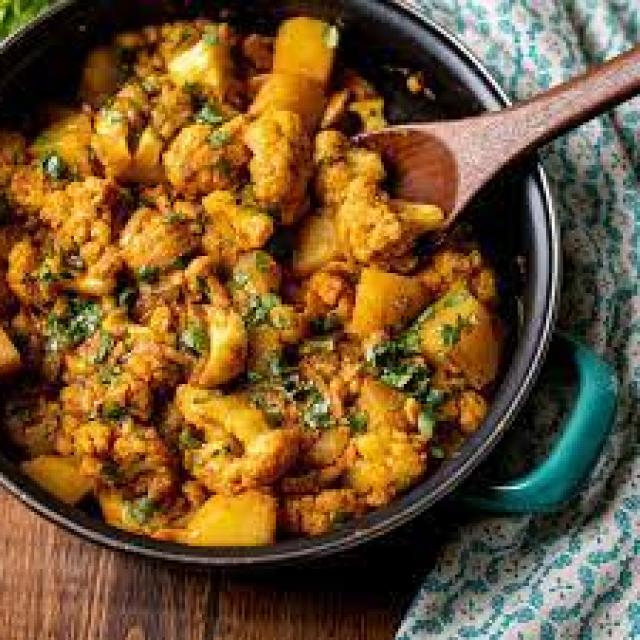Aloo Gobi: (14, 247, 511, 505)
